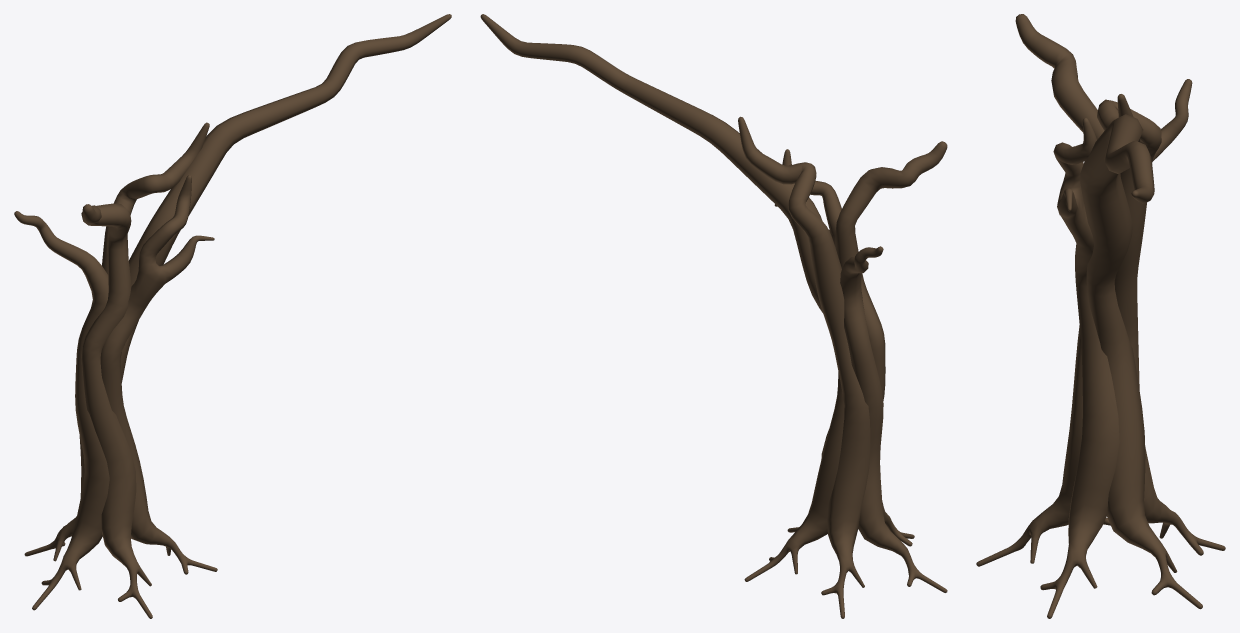
Rendered from SM_Tree_V1.fbx.
3 renders of one model, left to right at view 1: azimuth 30°, elevation 25°; view 2: azimuth 150°, elevation 25°; view 3: azimuth 270°, elevation 25°, orthographic. The views are drawn at different scales.
Visible parts, largest first — view 1: Support.001; view 2: Support.001; view 3: Support.001.
Part boxes in pixels (x1,y1,x2,y2): Support.001: (14, 14, 451, 618); Support.001: (480, 14, 947, 618); Support.001: (976, 14, 1225, 618).
Size of the model in its own units: 797 by 827 by 310.
